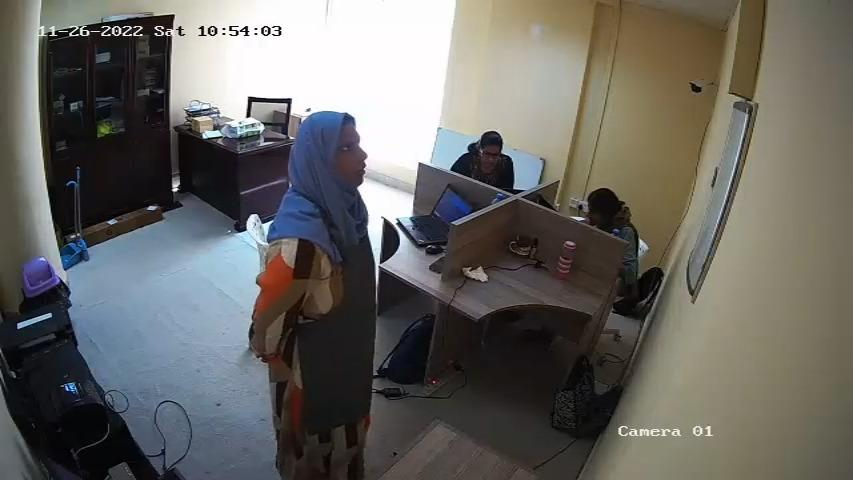apron: (287, 207, 383, 436)
